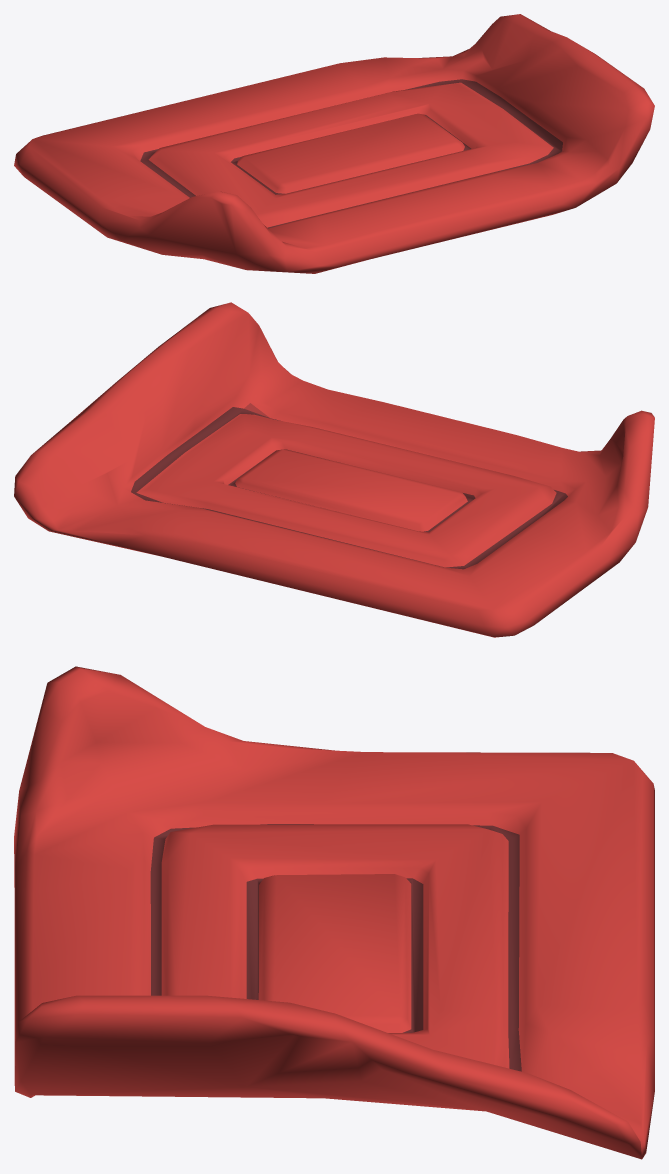
File: 4_doormat_v3.fbx
3 renders of one model, top to bottom at view 1: azimuth 30°, elevation 25°; view 2: azimuth 150°, elevation 25°; view 3: azimuth 270°, elevation 25°, orthographic. The views are drawn at different scales.
Parts seen in each view (by area): view 1: 4_doormat_v3; view 2: 4_doormat_v3; view 3: 4_doormat_v3.
Boxes of the visible parts, x1,y1,x2,y2 form: 4_doormat_v3: [14, 14, 654, 273]; 4_doormat_v3: [14, 302, 654, 637]; 4_doormat_v3: [14, 666, 654, 1159].
Size of the model in its own units: 43.3 by 7.85 by 29.09.
